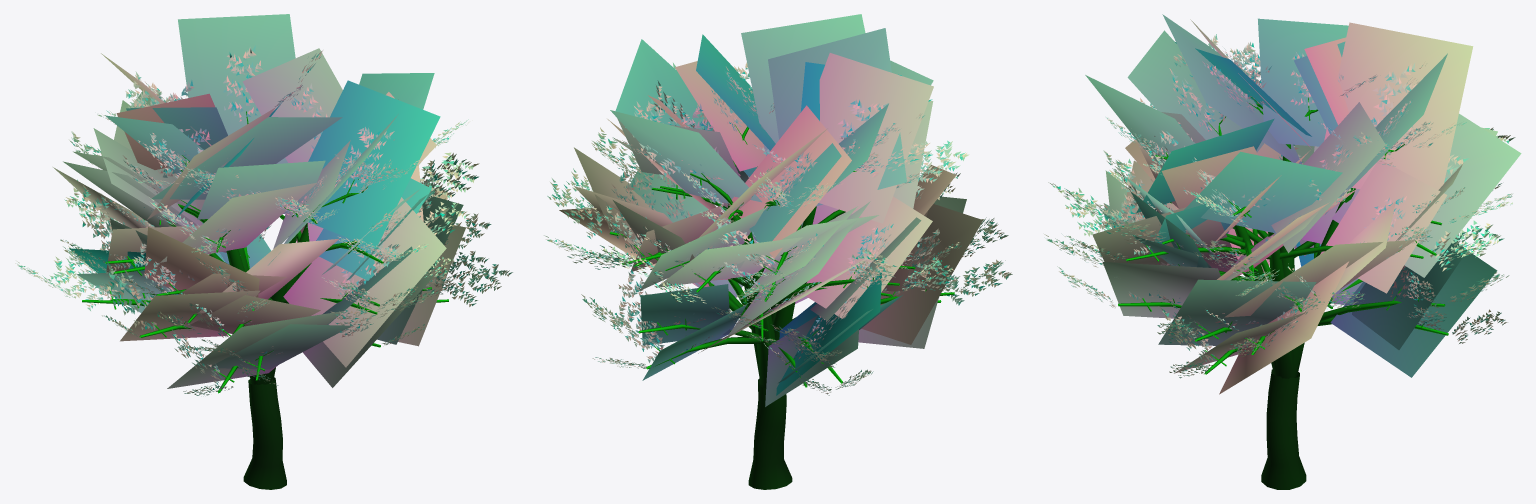
File: hill_a_2.glb
3 renders of one model, left to right at view 1: azimuth 30°, elevation 25°; view 2: azimuth 150°, elevation 25°; view 3: azimuth 270°, elevation 25°, orthographic. The views are drawn at different scales.
Visible parts, largest first — view 1: mid, near; view 2: mid, near; view 3: mid, near.
Boxes of the visible parts, x1=… form: mid: x1=53, y1=14, x2=465, y2=388; near: x1=15, y1=45, x2=512, y2=489; mid: x1=559, y1=14, x2=982, y2=406; near: x1=544, y1=49, x2=1012, y2=489; mid: x1=1085, y1=14, x2=1521, y2=394; near: x1=1044, y1=34, x2=1515, y2=489.
Size of the model in its own units: 8.67 by 8.71 by 8.63.
